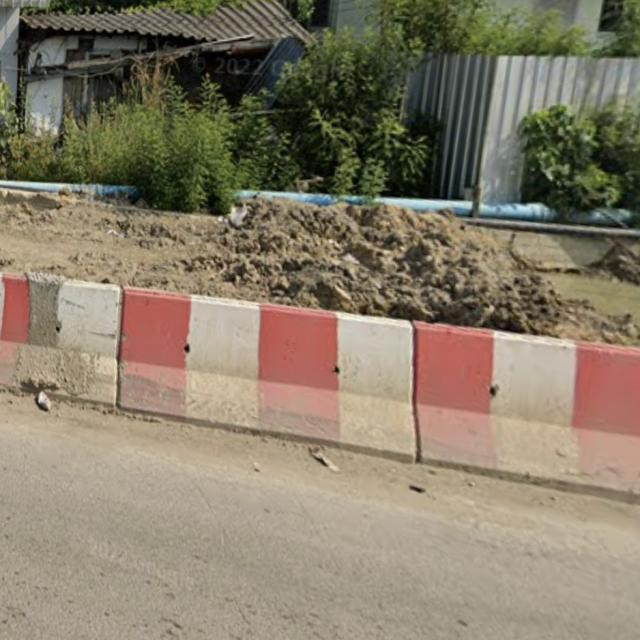fallen_object: (95, 270, 426, 493), (391, 306, 640, 553), (0, 252, 125, 437)
